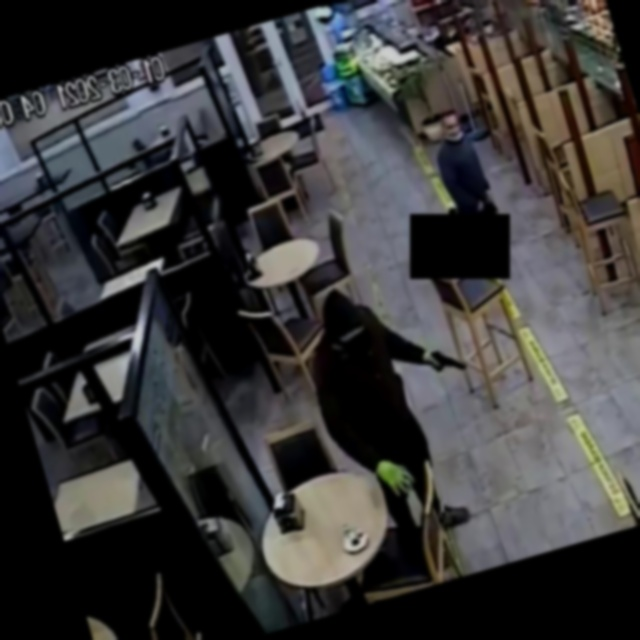gun: (415, 333, 484, 399)
